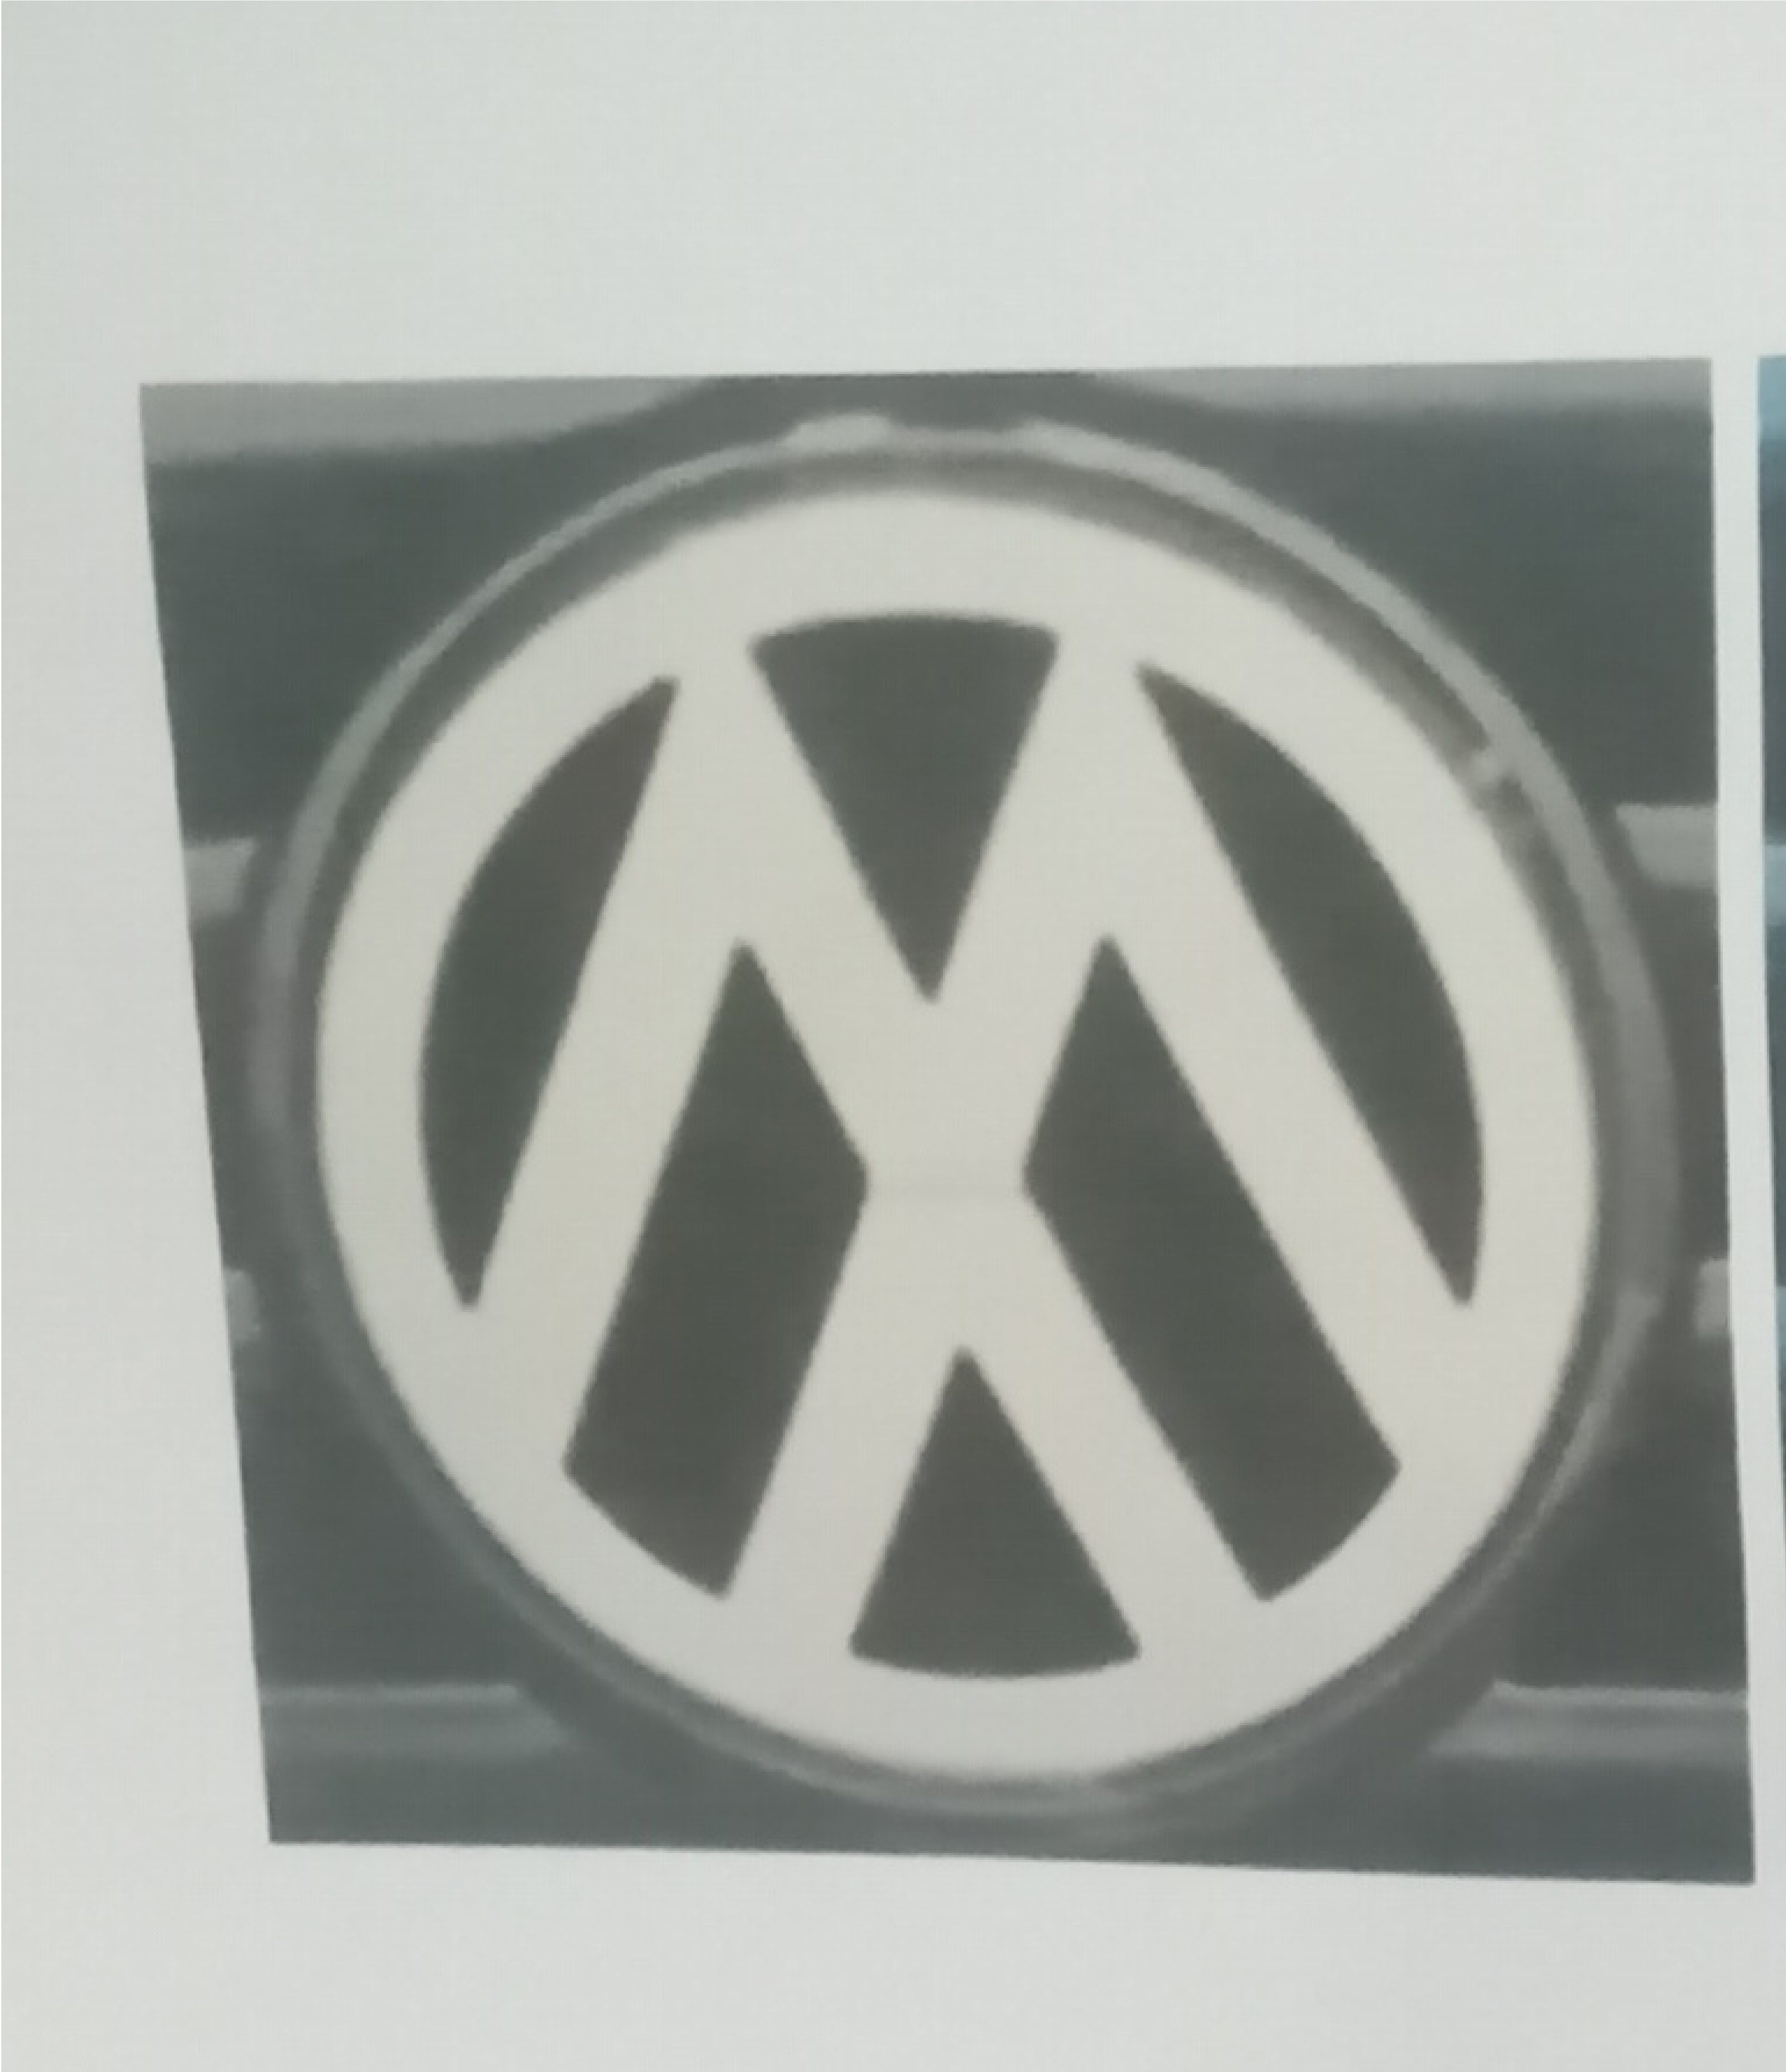Volkswagen: (229, 384, 1721, 1846)
